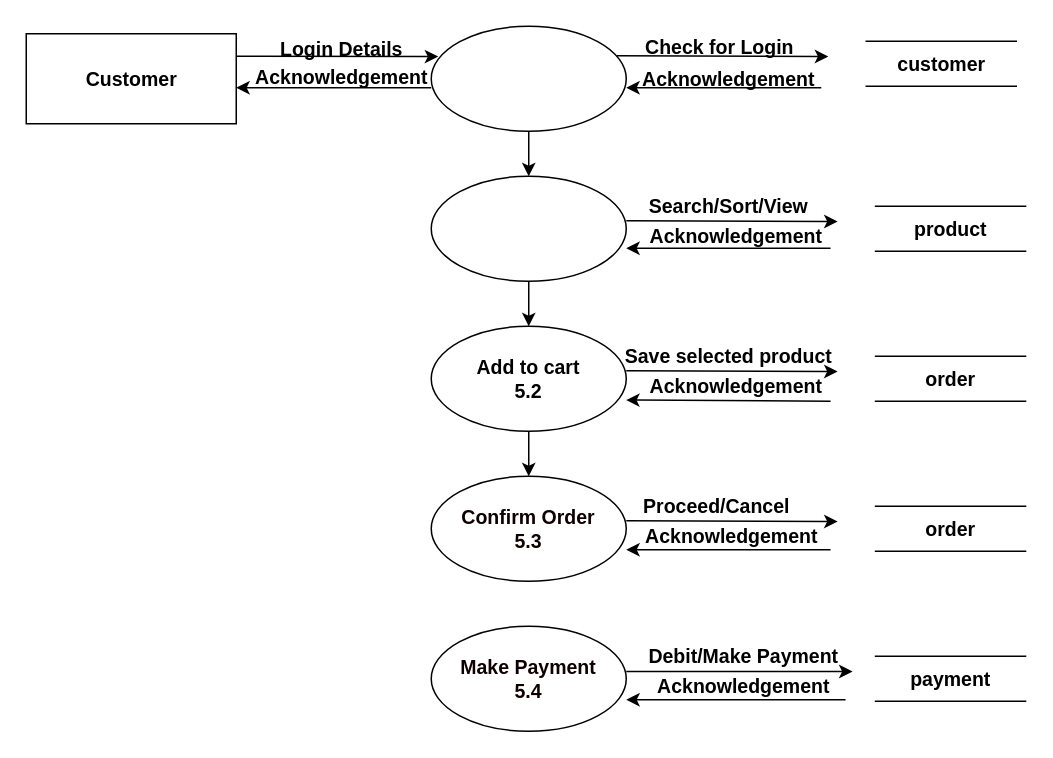
Some shapes in this 1053 by 758 pixel diagram are drawn without their labels. The centre of each missing label's shape, as x and y in pixels:
"Login 5.0" goes at point 528,78.
"View Product 5.1" goes at point 528,228.
